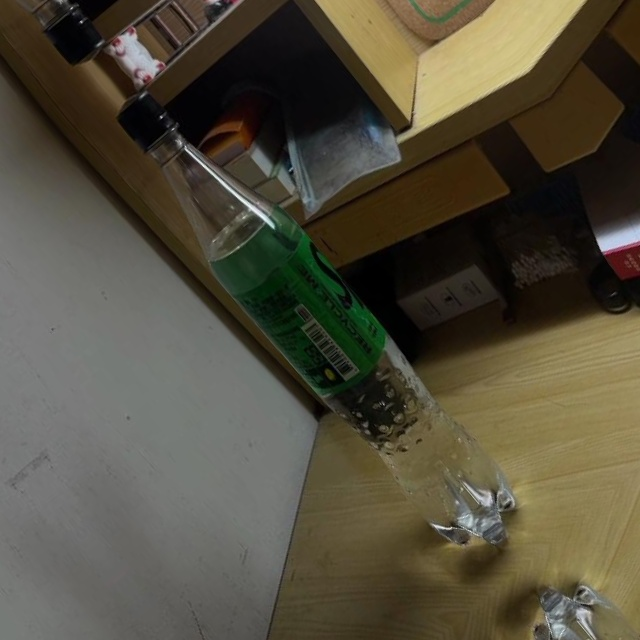Sprite: (92, 67, 542, 577)
